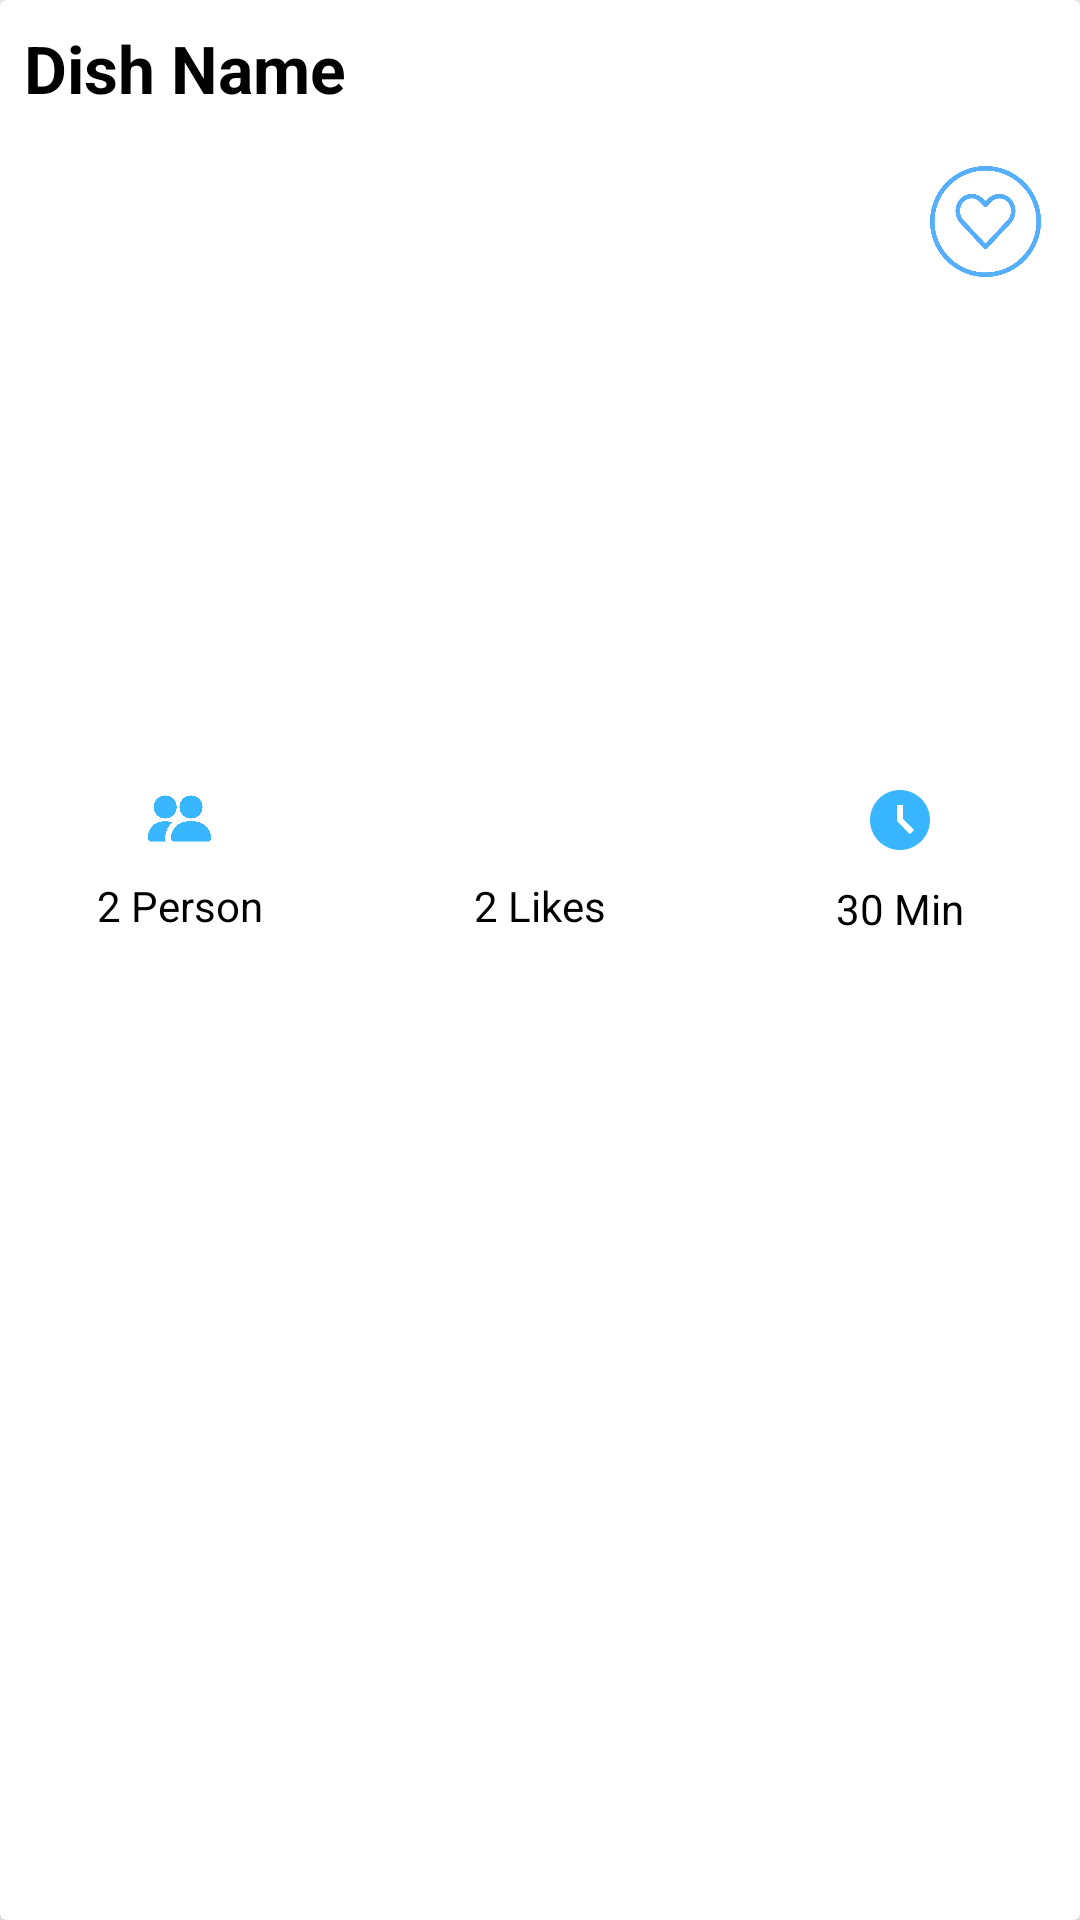

Named icons in this screenshot (1080w x 1920h) and their centers, point (x, y):
heart: point (985, 221)
servings: point (179, 818)
time: point (900, 820)
